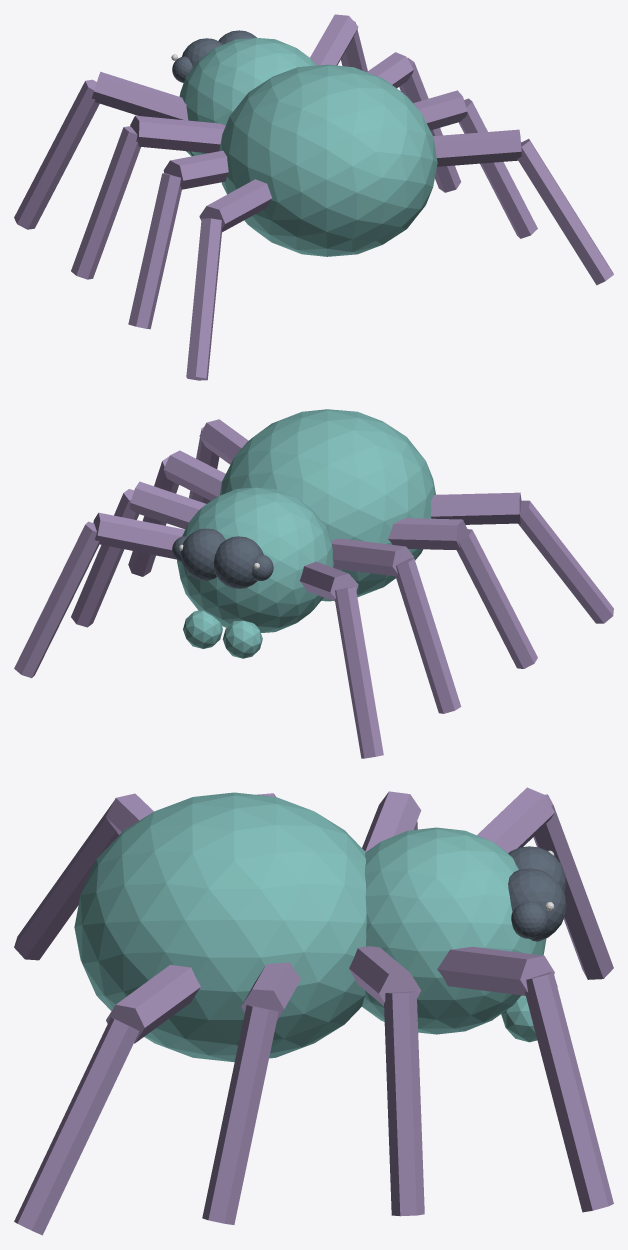
The model's file is spider_player.glb.
The picture shows the model from 3 angles, top to bottom: view 1: azimuth 30°, elevation 25°; view 2: azimuth 150°, elevation 25°; view 3: azimuth 270°, elevation 25°; orthographic projection. The views are drawn at different scales.
Visible parts, largest first — view 1: Abdomen, Cephalothorax, Leg_-1_0_B, Leg_-1_1_B, Leg_-1_2_B, Leg_-1_3_B, Leg_1_3_B, Leg_-1_1_A, Leg_-1_0_A, Leg_1_3_A, Leg_1_2_B, Leg_-1_3_A (+7 smaller); view 2: Abdomen, Cephalothorax, Leg_-1_0_B, Leg_-1_1_B, Leg_1_0_B, Leg_-1_2_B, Leg_-1_3_B, Leg_1_0_A, Leg_-1_3_A, Leg_1_1_B, Leg_-1_1_A, Leg_-1_2_A (+10 smaller); view 3: Abdomen, Cephalothorax, Leg_1_0_B, Leg_1_1_B, Leg_1_3_B, Leg_1_2_B, Leg_-1_3_B, Leg_-1_0_B, Leg_1_0_A, Leg_1_3_A, Leg_-1_0_A, Leg_1_1_A (+7 smaller).
Boxes of the visible parts, x1=… form: Abdomen: x1=219, y1=64, x2=437, y2=256; Cephalothorax: x1=179, y1=38, x2=316, y2=155; Leg_-1_0_B: x1=14, y1=79, x2=99, y2=229; Leg_-1_1_B: x1=71, y1=126, x2=140, y2=279; Leg_-1_2_B: x1=128, y1=173, x2=181, y2=329; Leg_-1_3_B: x1=186, y1=218, x2=221, y2=380; Leg_1_3_B: x1=517, y1=139, x2=613, y2=285; Leg_-1_1_A: x1=130, y1=115, x2=225, y2=153; Leg_-1_0_A: x1=92, y1=71, x2=188, y2=120; Leg_1_3_A: x1=433, y1=129, x2=521, y2=166; Leg_1_2_B: x1=458, y1=98, x2=537, y2=238; Leg_-1_3_A: x1=199, y1=179, x2=271, y2=232; Abdomen: x1=220, y1=409, x2=435, y2=601; Cephalothorax: x1=177, y1=487, x2=333, y2=632; Leg_-1_0_B: x1=334, y1=586, x2=383, y2=758; Leg_-1_1_B: x1=395, y1=558, x2=461, y2=713; Leg_1_0_B: x1=14, y1=521, x2=99, y2=678; Leg_-1_2_B: x1=457, y1=529, x2=537, y2=668; Leg_-1_3_B: x1=518, y1=500, x2=613, y2=623; Leg_1_0_A: x1=93, y1=512, x2=184, y2=559; Leg_-1_3_A: x1=430, y1=492, x2=521, y2=524; Leg_1_1_B: x1=71, y1=489, x2=139, y2=627; Leg_-1_1_A: x1=331, y1=538, x2=413, y2=576; Leg_-1_2_A: x1=388, y1=518, x2=467, y2=550; Abdomen: x1=74, y1=792, x2=366, y2=1062; Cephalothorax: x1=362, y1=827, x2=546, y2=1034; Leg_1_0_B: x1=525, y1=972, x2=613, y2=1212; Leg_1_1_B: x1=384, y1=991, x2=424, y2=1216; Leg_1_3_B: x1=14, y1=1017, x2=139, y2=1235; Leg_1_2_B: x1=202, y1=1005, x2=278, y2=1224; Leg_-1_3_B: x1=14, y1=801, x2=118, y2=960; Leg_-1_0_B: x1=533, y1=794, x2=613, y2=979; Leg_1_0_A: x1=437, y1=946, x2=554, y2=995; Leg_1_3_A: x1=106, y1=964, x2=200, y2=1043; Leg_-1_0_A: x1=477, y1=787, x2=554, y2=852; Leg_1_1_A: x1=349, y1=946, x2=421, y2=1005.
Size of the model in its own units: 1.72 by 0.7869 by 1.48.
